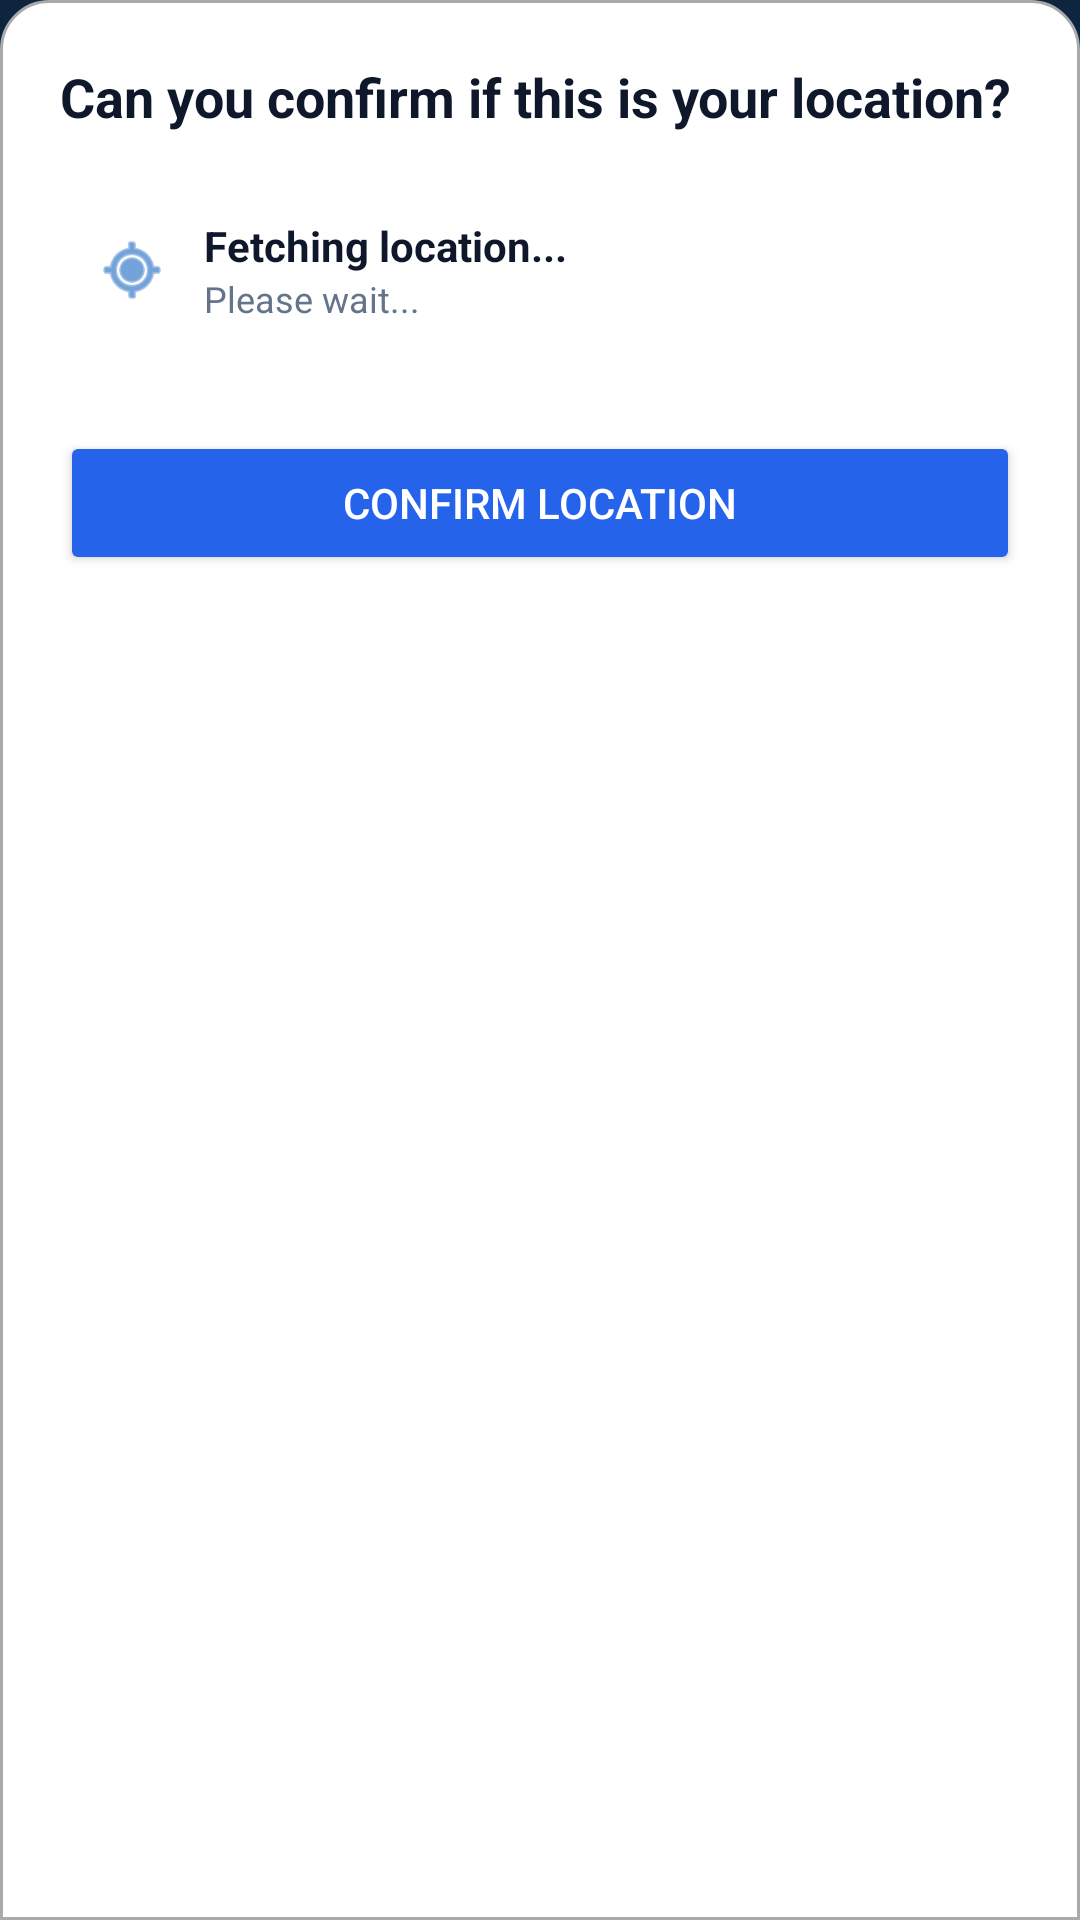

Icons on this 1080w x 1920h Android screen, each with its box as (x1, y1, x2, y2):
mylocation: (103, 241, 161, 299)
